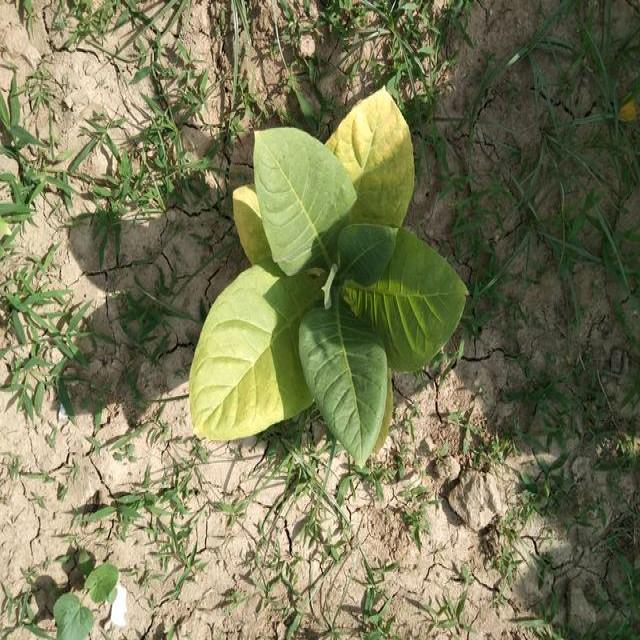crop: (189, 82, 466, 460)
